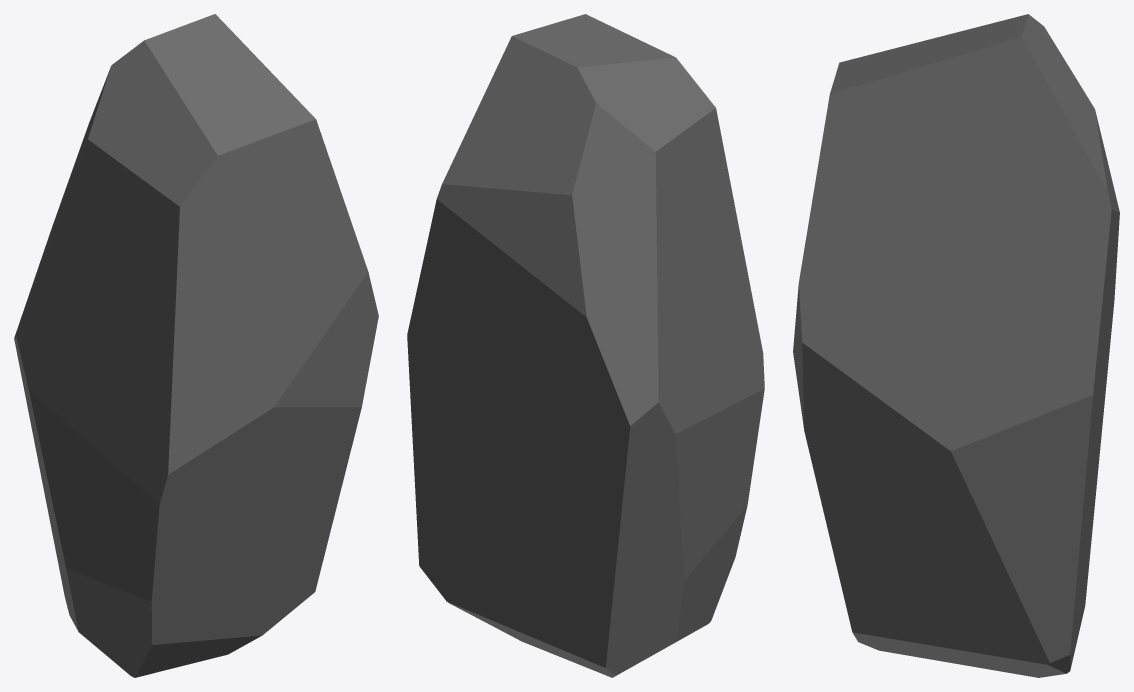
Rendered from big_5.fbx.
3 views of the same model, side by side, from view 1: azimuth 30°, elevation 25°; view 2: azimuth 150°, elevation 25°; view 3: azimuth 270°, elevation 25° (orthographic). The views are drawn at different scales.
Parts seen in each view (by area): view 1: Big Rock 5; view 2: Big Rock 5; view 3: Big Rock 5.
Part boxes in pixels (box(x1,y1,x2,y2)): Big Rock 5: box(14, 14, 378, 677); Big Rock 5: box(407, 14, 764, 677); Big Rock 5: box(793, 14, 1119, 677).
Size of what is drawn, in the model's own units: 410 by 903 by 407.
1 material, 1 textured.
